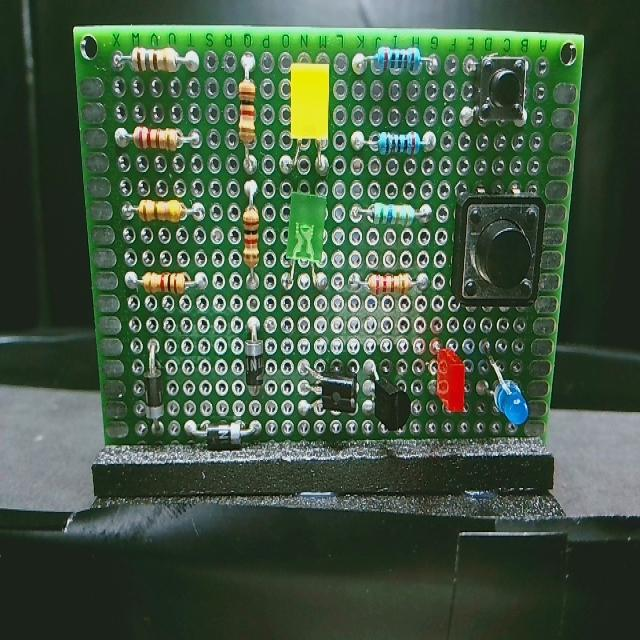diode: (234, 319, 275, 398), (142, 343, 172, 439), (192, 416, 265, 454)
led: (283, 51, 338, 160), (472, 356, 536, 434), (285, 180, 323, 283), (429, 345, 470, 417)
resistor: (357, 119, 443, 168), (112, 114, 197, 158), (360, 35, 436, 84), (116, 38, 194, 84), (232, 184, 268, 283), (358, 186, 426, 232), (237, 54, 264, 150), (129, 192, 195, 228), (130, 267, 194, 302), (366, 267, 420, 298)
switch: (453, 186, 552, 317), (462, 46, 537, 136)
transistor: (297, 356, 362, 426), (370, 361, 415, 436)
